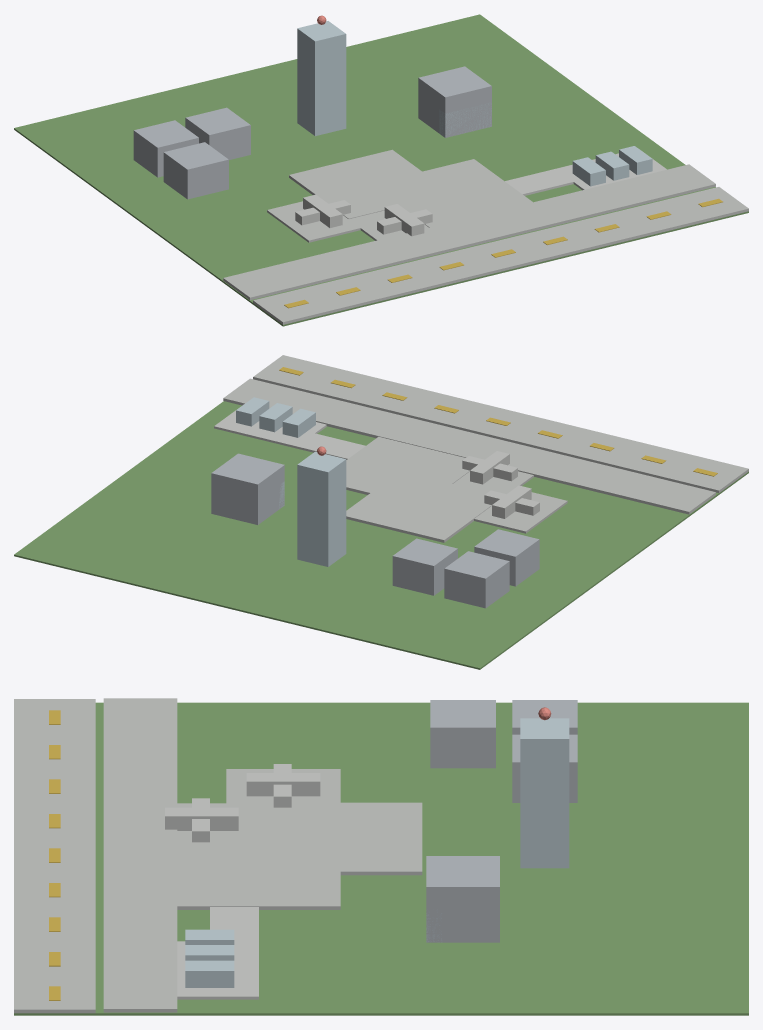
The model's file is stage_12.glb.
3 views of the same model, one above another, from view 1: azimuth 30°, elevation 25°; view 2: azimuth 150°, elevation 25°; view 3: azimuth 270°, elevation 25° (orthographic). The views are drawn at different scales.
Visible parts, largest first — view 1: geometry_0; view 2: geometry_0; view 3: geometry_0.
Boxes of the visible parts, box(x1,y1,x2,y2) form: geometry_0: box(14, 14, 748, 326); geometry_0: box(14, 355, 748, 669); geometry_0: box(14, 698, 748, 1015).
Bounding box in the file's own units: 9 × 2.06 × 9.
